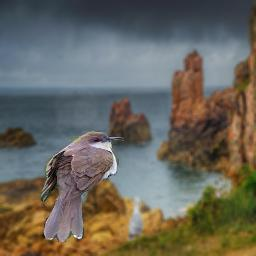Cuckoo: (40, 131, 124, 242)
